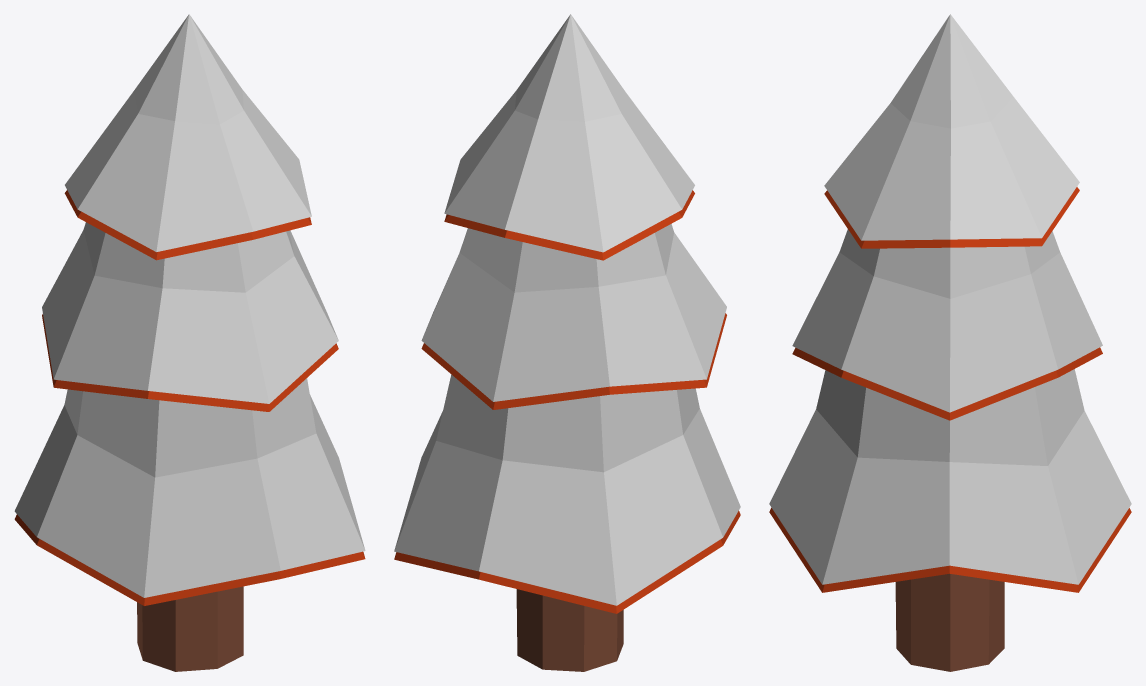
File: Tree_01_winter_red_mat.fbx
The picture shows the model from 3 angles, left to right: view 1: azimuth 30°, elevation 25°; view 2: azimuth 150°, elevation 25°; view 3: azimuth 270°, elevation 25°; orthographic projection.
Parts seen in each view (by area): view 1: Tree_01_winter_red_mat; view 2: Tree_01_winter_red_mat; view 3: Tree_01_winter_red_mat.
Boxes of the visible parts, bbox=[...] form: Tree_01_winter_red_mat: bbox=[14, 14, 365, 671]; Tree_01_winter_red_mat: bbox=[394, 14, 740, 671]; Tree_01_winter_red_mat: bbox=[769, 14, 1131, 671].
Size of the model in its own units: 83.22 by 167 by 86.78.
